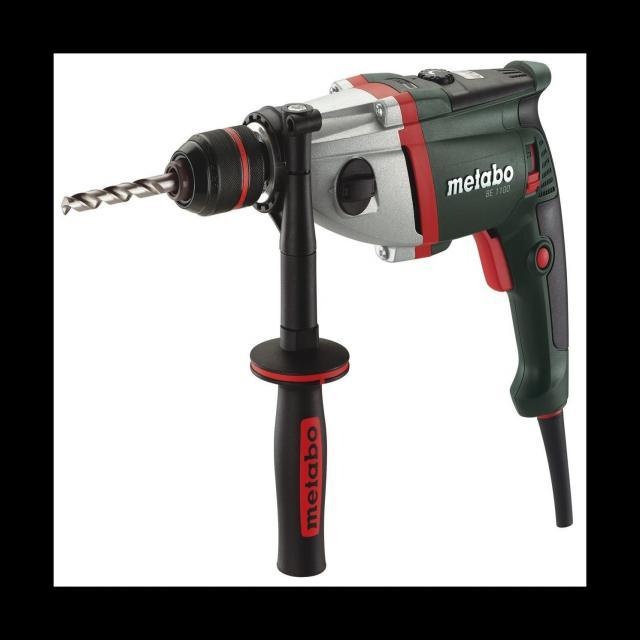drill: (61, 60, 573, 578)
